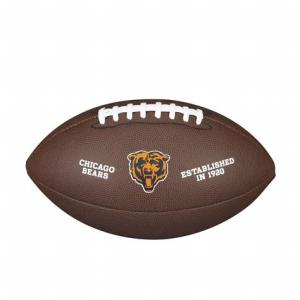Rugby: (24, 100, 277, 240)
